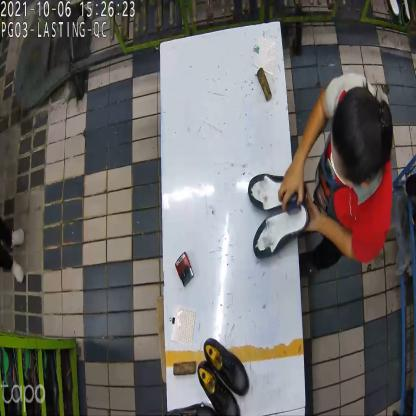shoes: (245, 176, 313, 263), (198, 338, 255, 416)
stamp: (278, 180, 306, 217), (176, 248, 192, 282)
